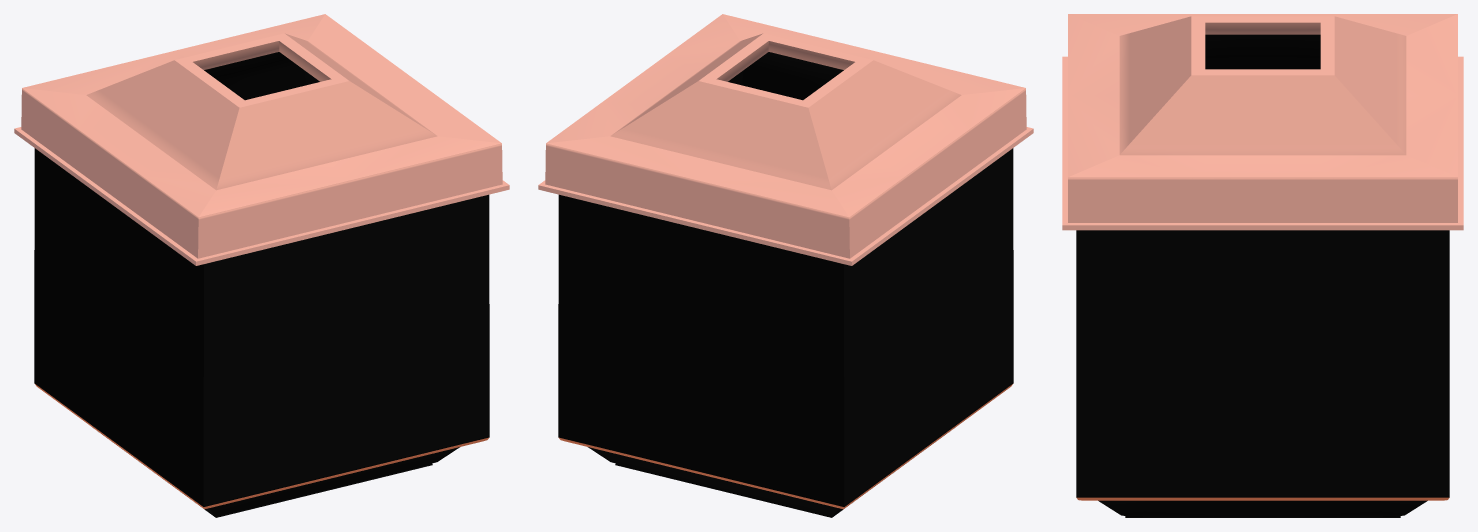
File: OutsideGarbageCan2.fbx
3 views of the same model, side by side, from view 1: azimuth 30°, elevation 25°; view 2: azimuth 150°, elevation 25°; view 3: azimuth 270°, elevation 25° (orthographic). The views are drawn at different scales.
Visible parts, largest first — view 1: pCube31; view 2: pCube31; view 3: pCube31.
Boxes of the visible parts, left/top/right/bottom form: pCube31: left=14, top=14, right=509, bottom=517; pCube31: left=538, top=14, right=1033, bottom=517; pCube31: left=1062, top=14, right=1463, bottom=517.
Bounding box in the file's own units: 1.86 × 2.13 × 1.87.
